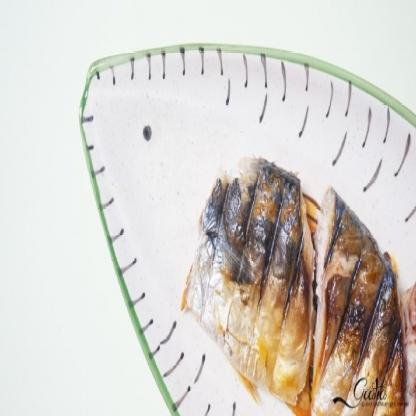Peixe: (179, 153, 416, 416)
